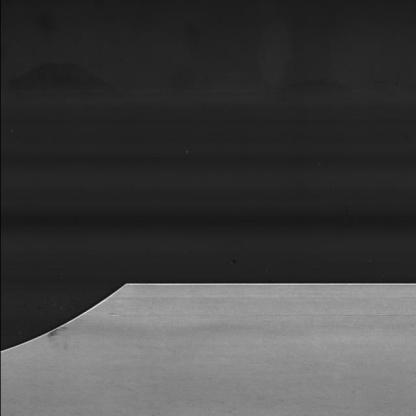crescent_gap: (1, 266, 131, 361)
